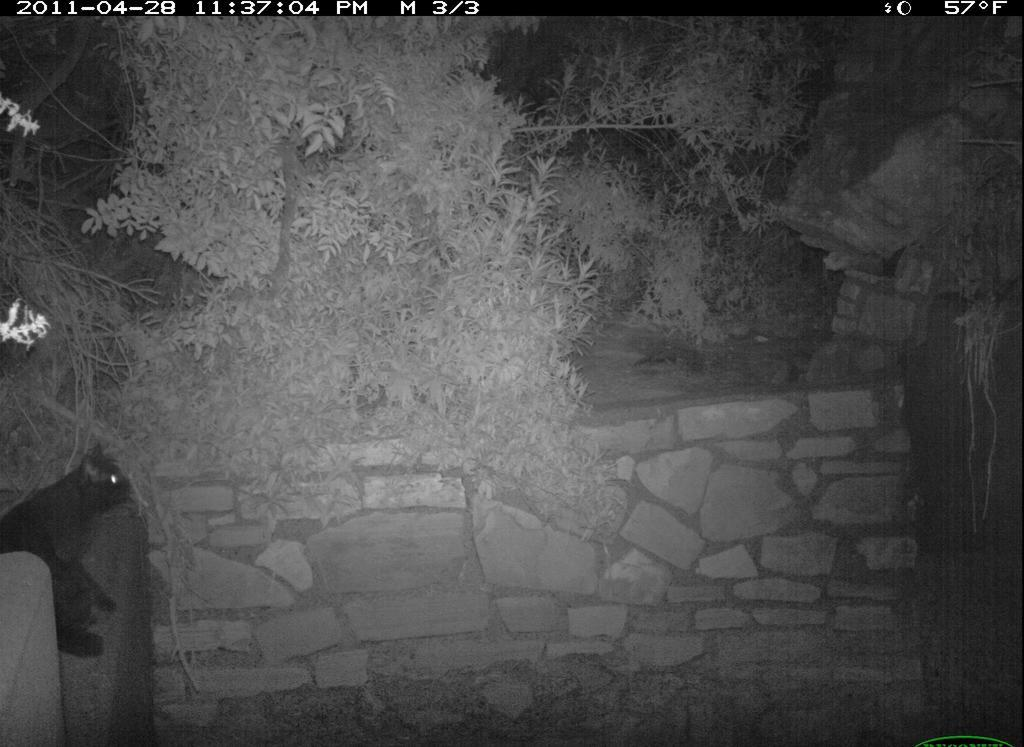cat: (1, 437, 140, 665)
